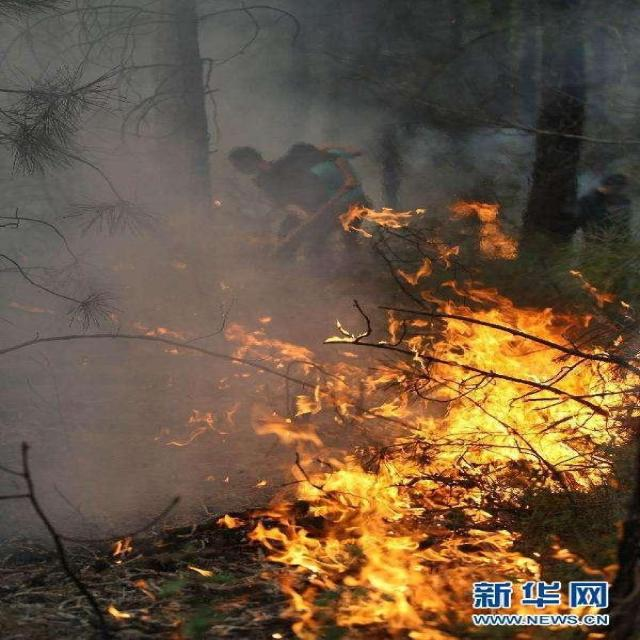fire: (177, 195, 637, 638)
